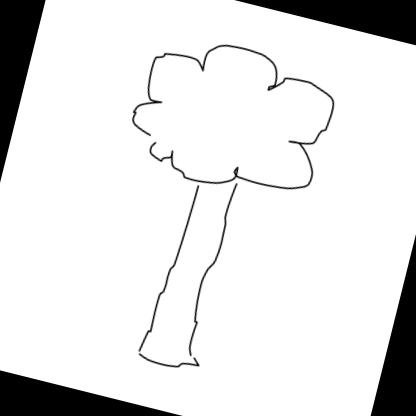crown_cloud: (121, 26, 341, 209)
trunk_straight: (148, 195, 232, 339)
